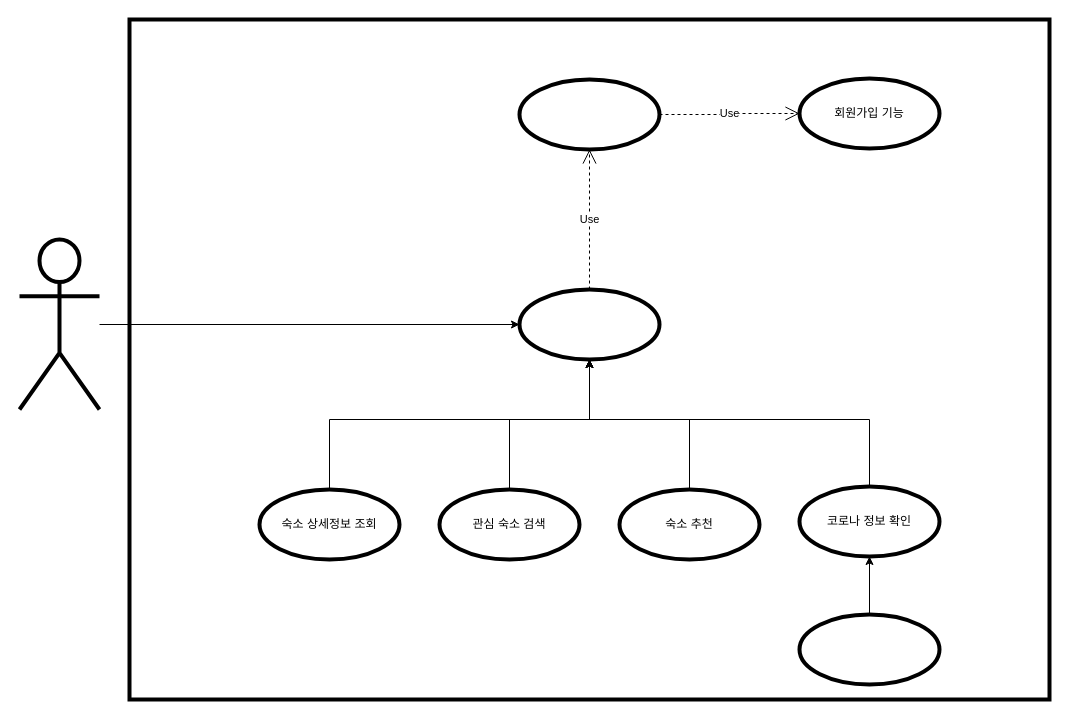
This 1068x718 diagram has some shape labels left out. The shapes that lost their labels are listed below. From the top down, each one's centre as x and y in pixels, then its label:
pixel 589 114: 로그인 기능
pixel 589 324: 숙소 확인
pixel 869 649: 코로나 웹사이트 연동
